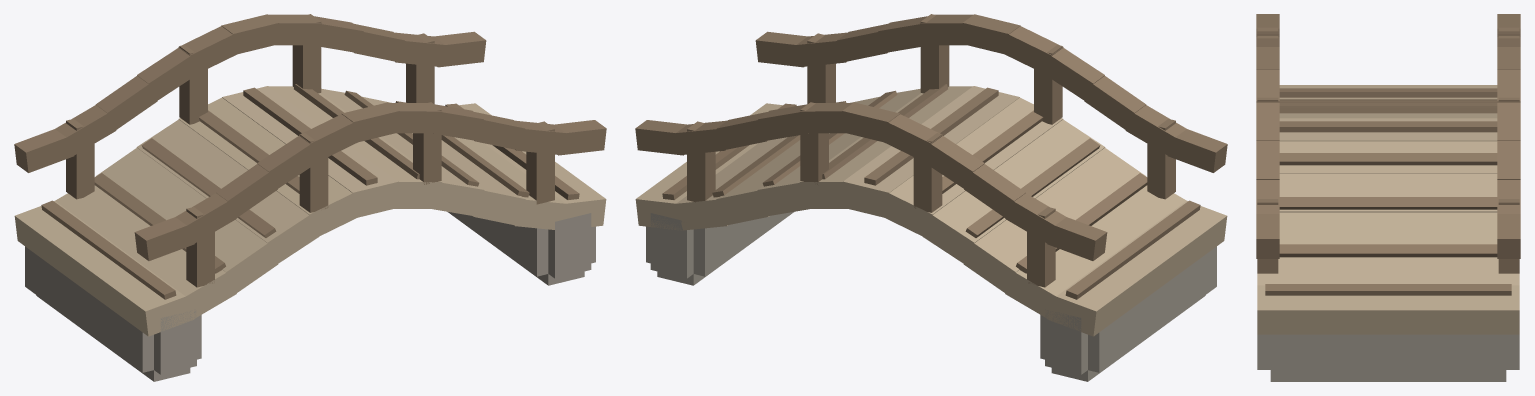
The model's file is Bridge_Arch.glb.
3 views of the same model, side by side, from view 1: azimuth 30°, elevation 25°; view 2: azimuth 150°, elevation 25°; view 3: azimuth 270°, elevation 25° (orthographic).
Visible parts, largest first — view 1: geometry_0; view 2: geometry_0; view 3: geometry_0.
Boxes of the visible parts, box(x1,y1,x2,y2) form: geometry_0: box(14, 14, 606, 381); geometry_0: box(635, 14, 1227, 381); geometry_0: box(1256, 14, 1520, 381).
Bounding box in the file's own units: 2.03 × 0.92 × 1.01.
